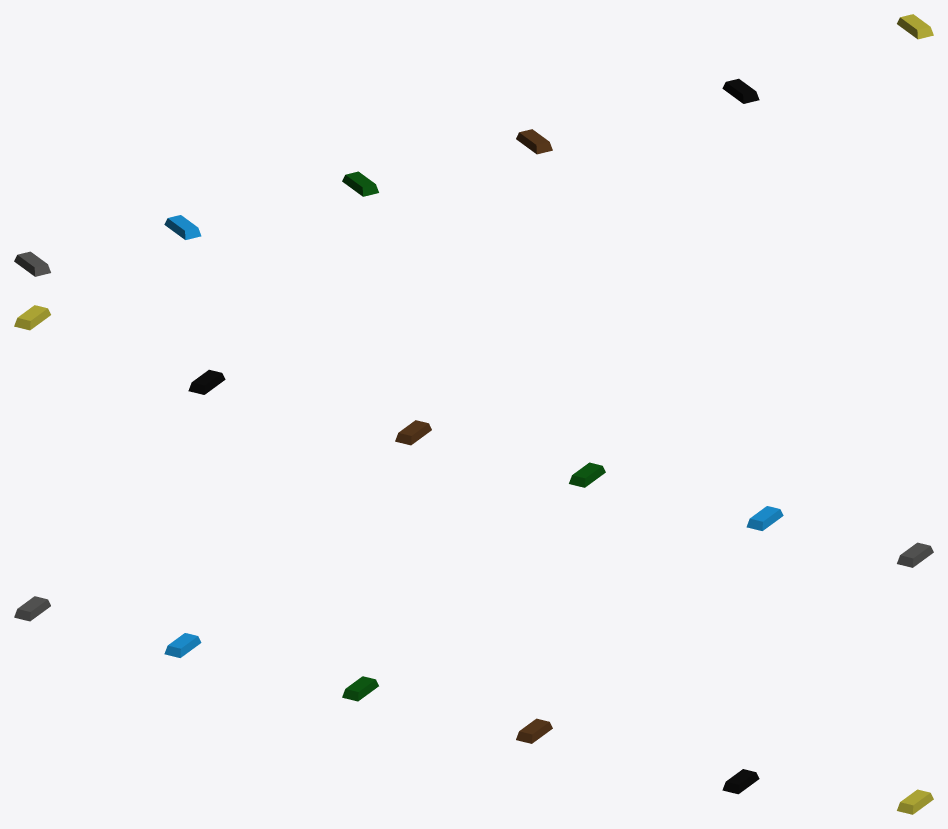
Rendered from mineingot.fbx.
The picture shows the model from 3 angles, top to bottom: view 1: azimuth 30°, elevation 25°; view 2: azimuth 150°, elevation 25°; view 3: azimuth 330°, elevation 25°; orthographic projection.
Visible parts, largest first — view 1: komurkulce, altınkulce, demırkulce, zumrutkulce, taskulce, elmaskulce; view 2: komurkulce, altınkulce, demırkulce, zumrutkulce, taskulce, elmaskulce; view 3: zumrutkulce, komurkulce, taskulce, demırkulce, altınkulce, elmaskulce.
Boxes of the visible parts, <box> form: komurkulce: <box>722,78,759,103</box>; altınkulce: <box>897,14,933,39</box>; demırkulce: <box>516,129,552,154</box>; zumrutkulce: <box>342,171,378,196</box>; taskulce: <box>14,251,50,276</box>; elmaskulce: <box>164,215,201,239</box>; komurkulce: <box>188,369,225,394</box>; altınkulce: <box>14,305,50,330</box>; demırkulce: <box>395,420,431,445</box>; zumrutkulce: <box>569,462,605,487</box>; taskulce: <box>897,542,933,567</box>; elmaskulce: <box>746,506,783,530</box>; zumrutkulce: <box>342,676,378,701</box>; komurkulce: <box>722,769,759,794</box>; taskulce: <box>14,596,50,621</box>; demırkulce: <box>516,718,552,743</box>; altınkulce: <box>897,789,933,814</box>; elmaskulce: <box>164,633,201,657</box>.
Bounding box in the file's own units: 1060 × 33.57 × 43.18.
